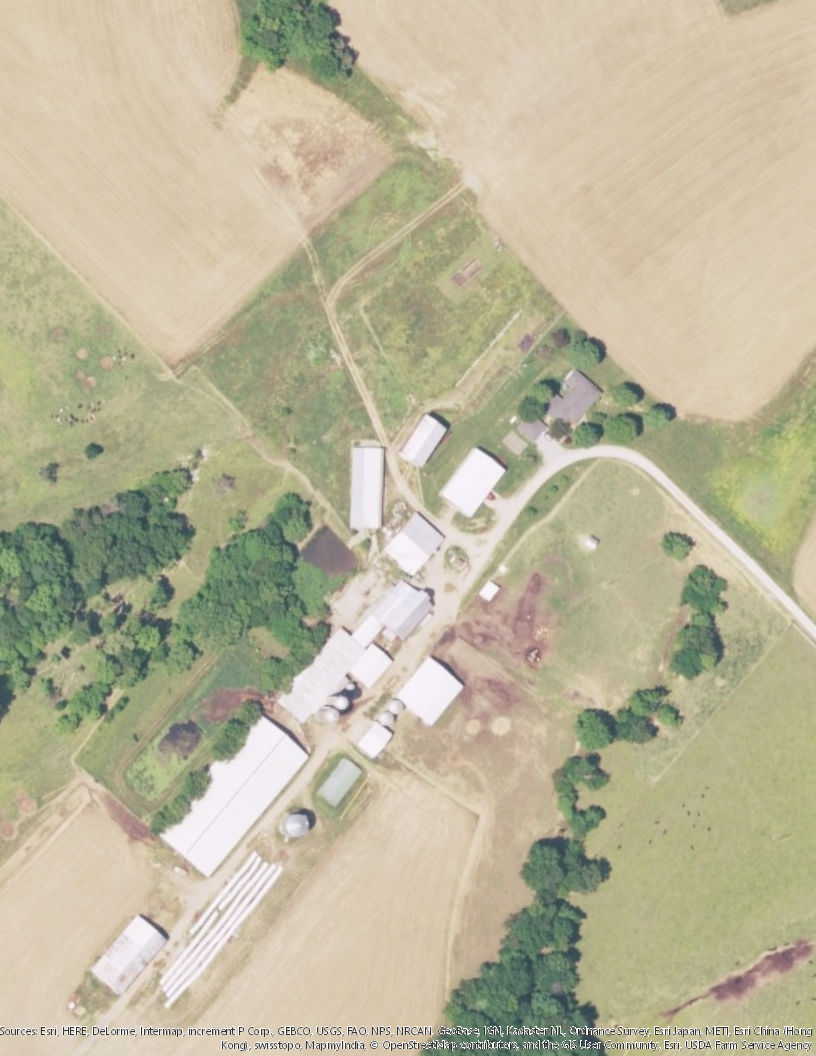cafo: (155, 701, 315, 884), (276, 578, 443, 728), (88, 907, 176, 999), (440, 444, 516, 524), (394, 650, 471, 726), (340, 440, 390, 537), (382, 509, 449, 578), (399, 411, 452, 468)
